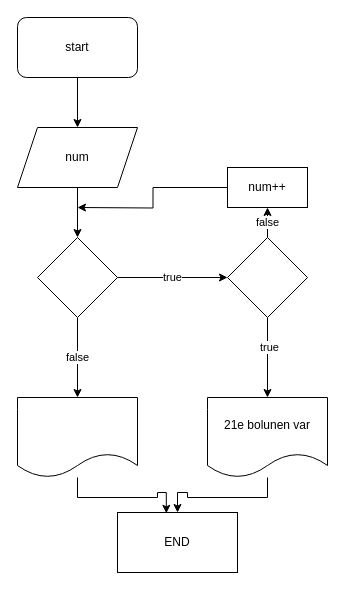
The diagram is 345 pixels wide and 590 high, and some of its shapes have lost their labels. Here are the shapes that lost their labels. From the top down, the box of each, then its label:
(36, 236, 118, 318): num<100
(226, 236, 308, 318): num%21==0
(16, 396, 138, 478): 21e bolunen yoxdu
